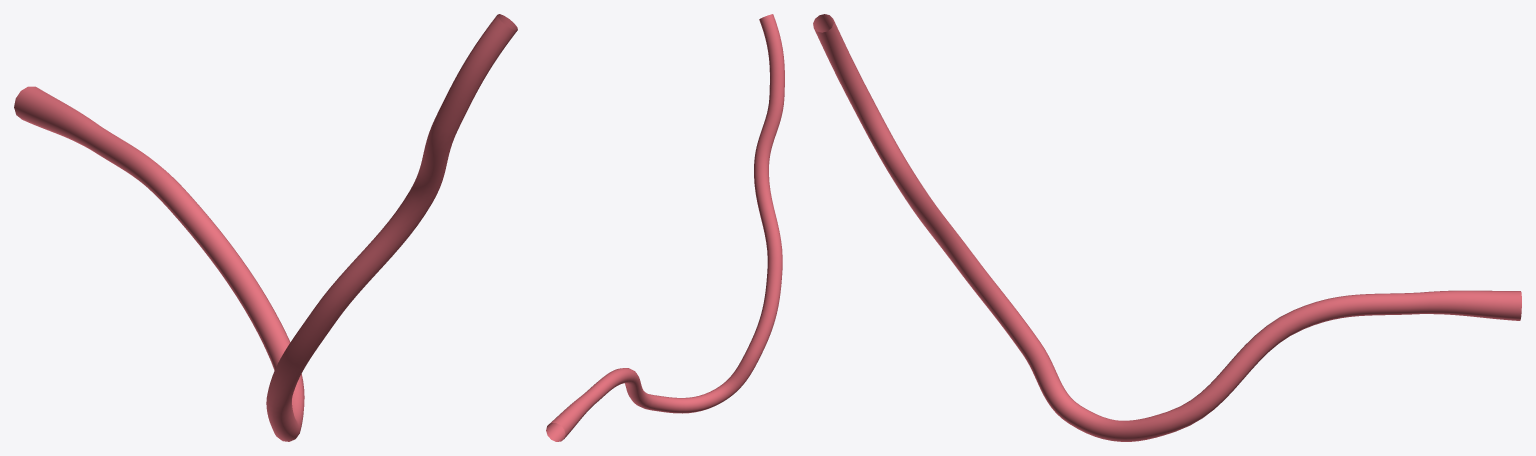
The picture shows the model from 3 angles, left to right: view 1: azimuth 30°, elevation 25°; view 2: azimuth 150°, elevation 25°; view 3: azimuth 270°, elevation 25°; orthographic projection. The views are drawn at different scales.
Visible parts, largest first — view 1: ZA_fcf4d263a4743a16; view 2: ZA_fcf4d263a4743a16; view 3: ZA_fcf4d263a4743a16.
Boxes of the visible parts, bbox=[...] form: ZA_fcf4d263a4743a16: bbox=[14, 14, 517, 441]; ZA_fcf4d263a4743a16: bbox=[546, 14, 784, 441]; ZA_fcf4d263a4743a16: bbox=[813, 14, 1521, 441].
Size of the model in its own units: 0.0116 by 0.045 by 0.0655.
